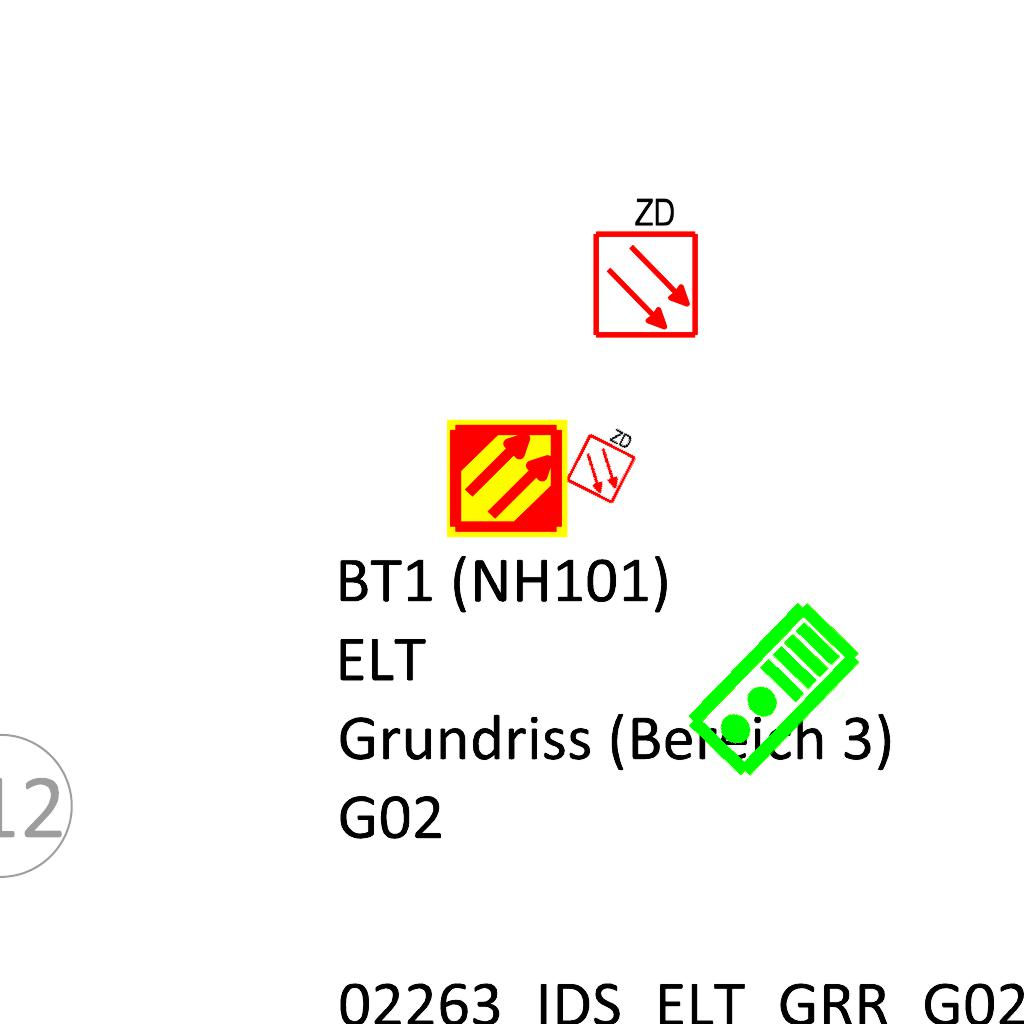ASR_Ansaugrauchmelder: (445, 416, 570, 541)
Gegensprechanlage_mit_Video: (679, 594, 870, 788)
ZD_Melder_in_Zwischendecke_mit_Revisionsoeffnung_mind_40_x_40_cm: (587, 191, 701, 340), (562, 414, 647, 506)
